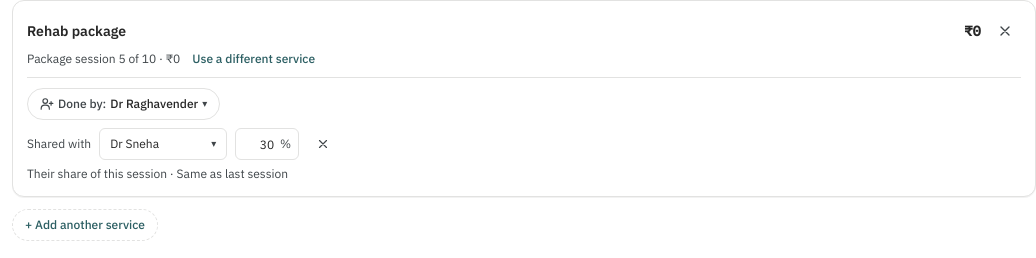
sharing a service › says "Same as last session" until the share is edited
Expected: the text "Their share of this session · Same as last session" is shown, [27,166,288,181]
Replace the text in the number field named "Percent of this service" with "40": point(267, 144) [235,128,299,160]
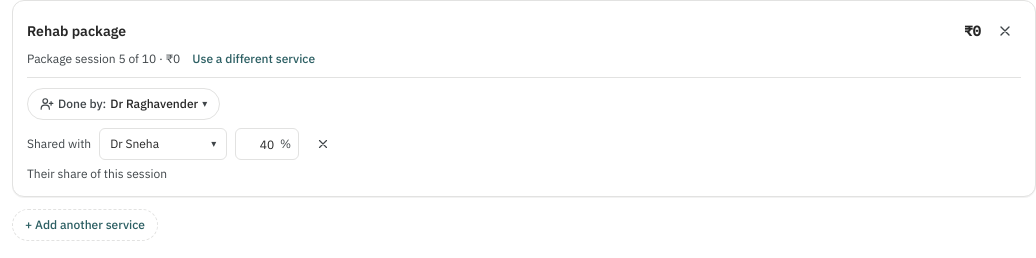
Expected: the text "Same as last session" is gone
